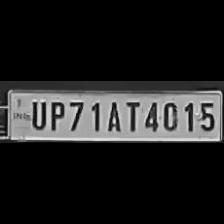0: (158, 99, 178, 130)
1: (85, 99, 103, 133), (179, 100, 195, 132)
4: (140, 98, 160, 132)
5: (194, 99, 216, 133)
7: (65, 99, 84, 133)
A: (102, 99, 122, 133)
P: (46, 98, 66, 132)
T: (122, 99, 140, 133)
U: (27, 99, 47, 131)
